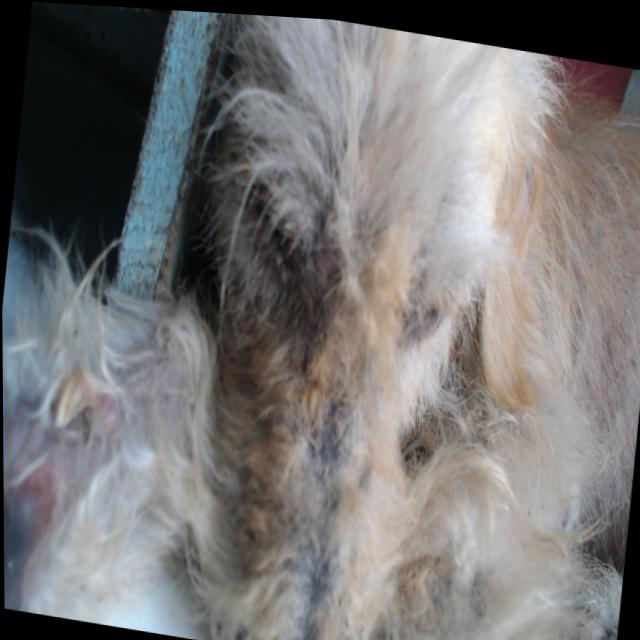demodicosis: (276, 393, 357, 586), (504, 152, 540, 233)
